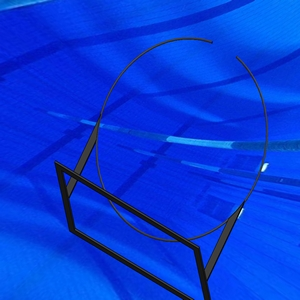circle: (54, 37, 271, 298)
